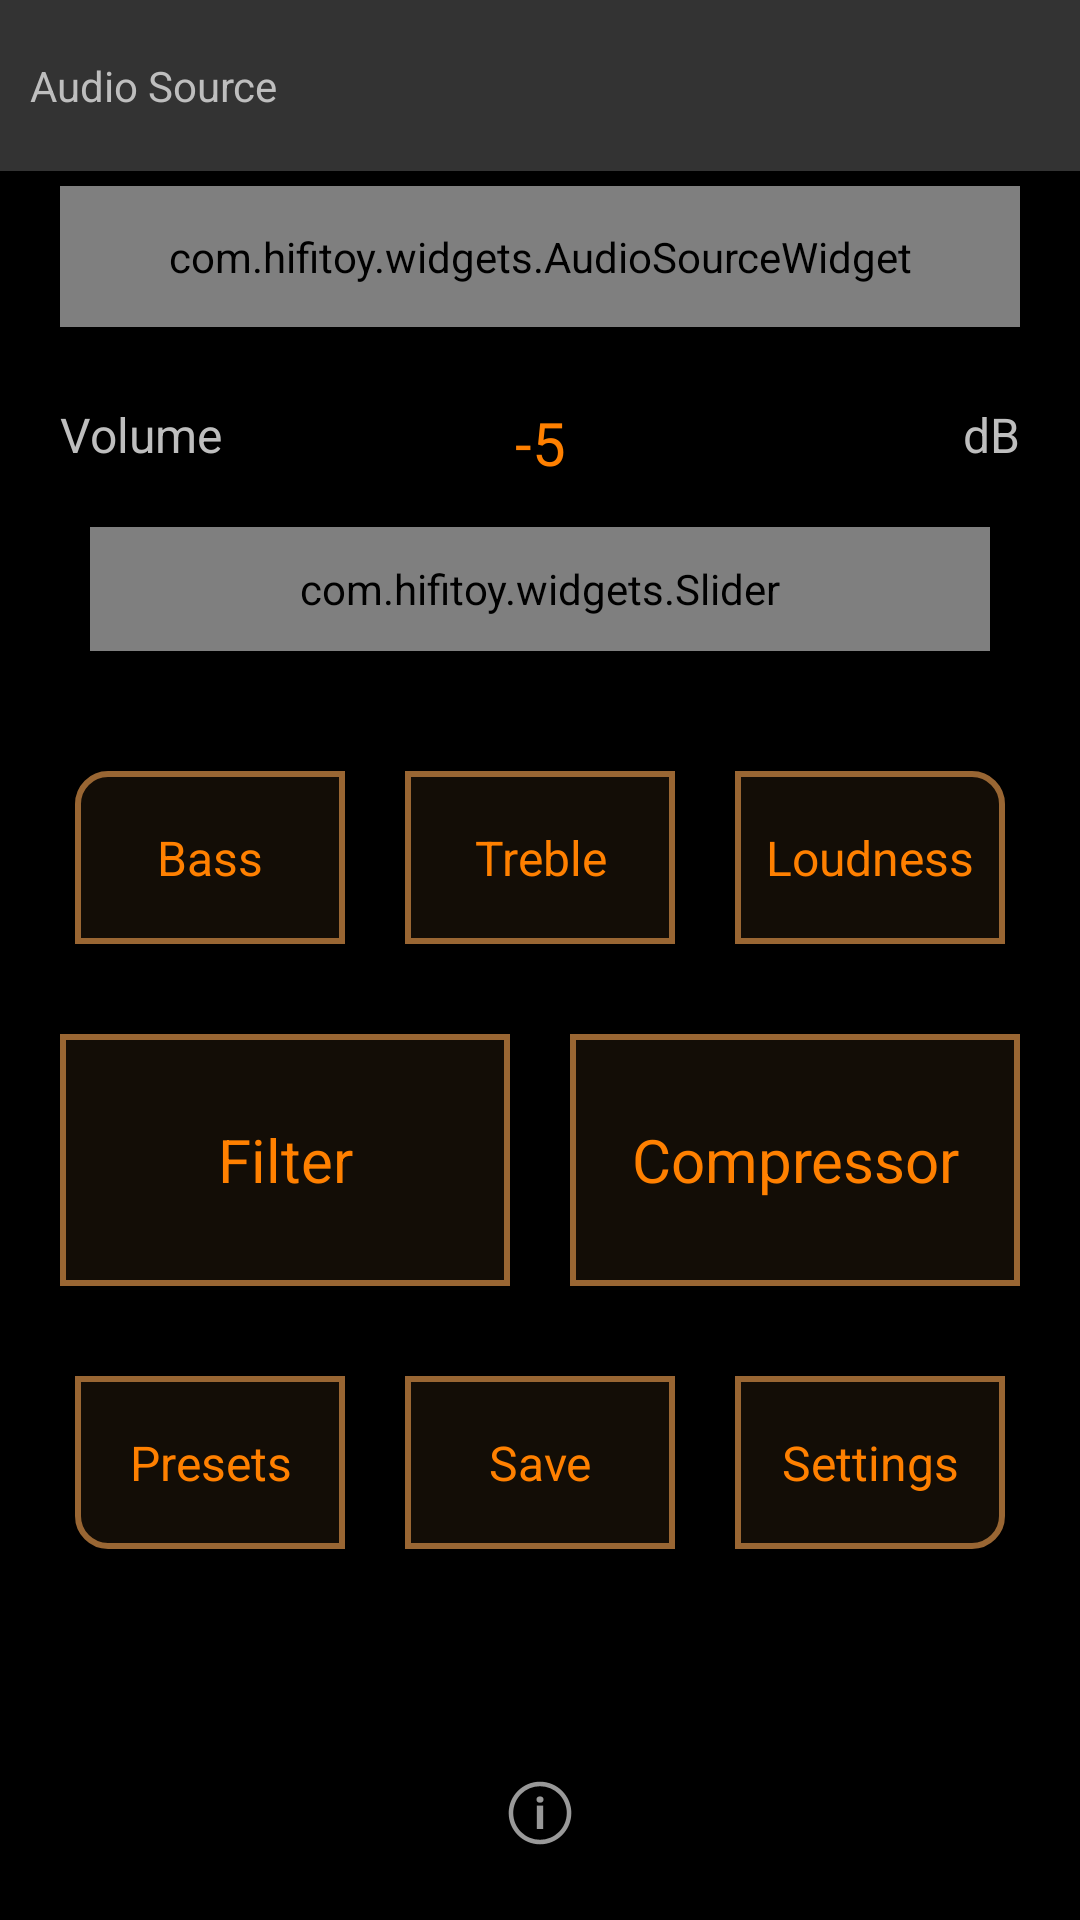

Locate icon controls on the screen. Image size 1080*1920, boxes as bbox=[x1, y1, x2, y2].
info details: bbox=[508, 1781, 572, 1845]
